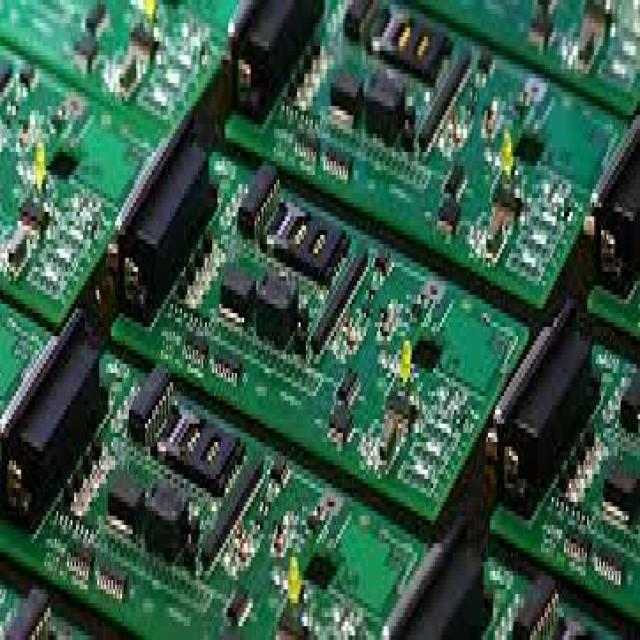pcb: (0, 0, 636, 635), (108, 138, 532, 530), (1, 341, 482, 635), (223, 0, 636, 318), (0, 0, 237, 525), (481, 295, 638, 635)
